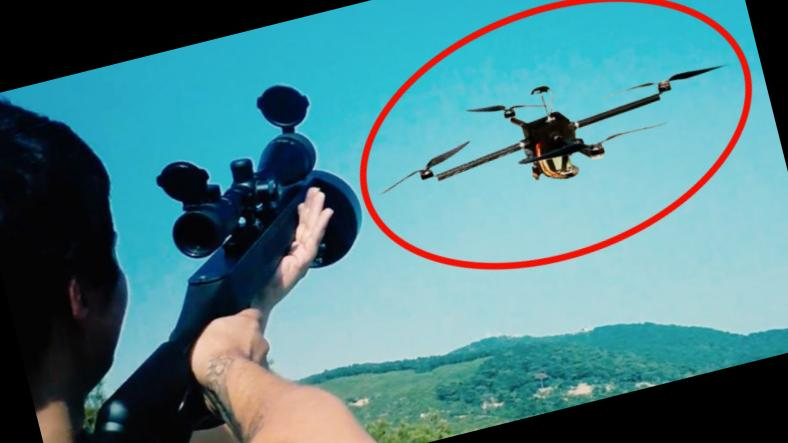drone: (377, 34, 749, 216)
